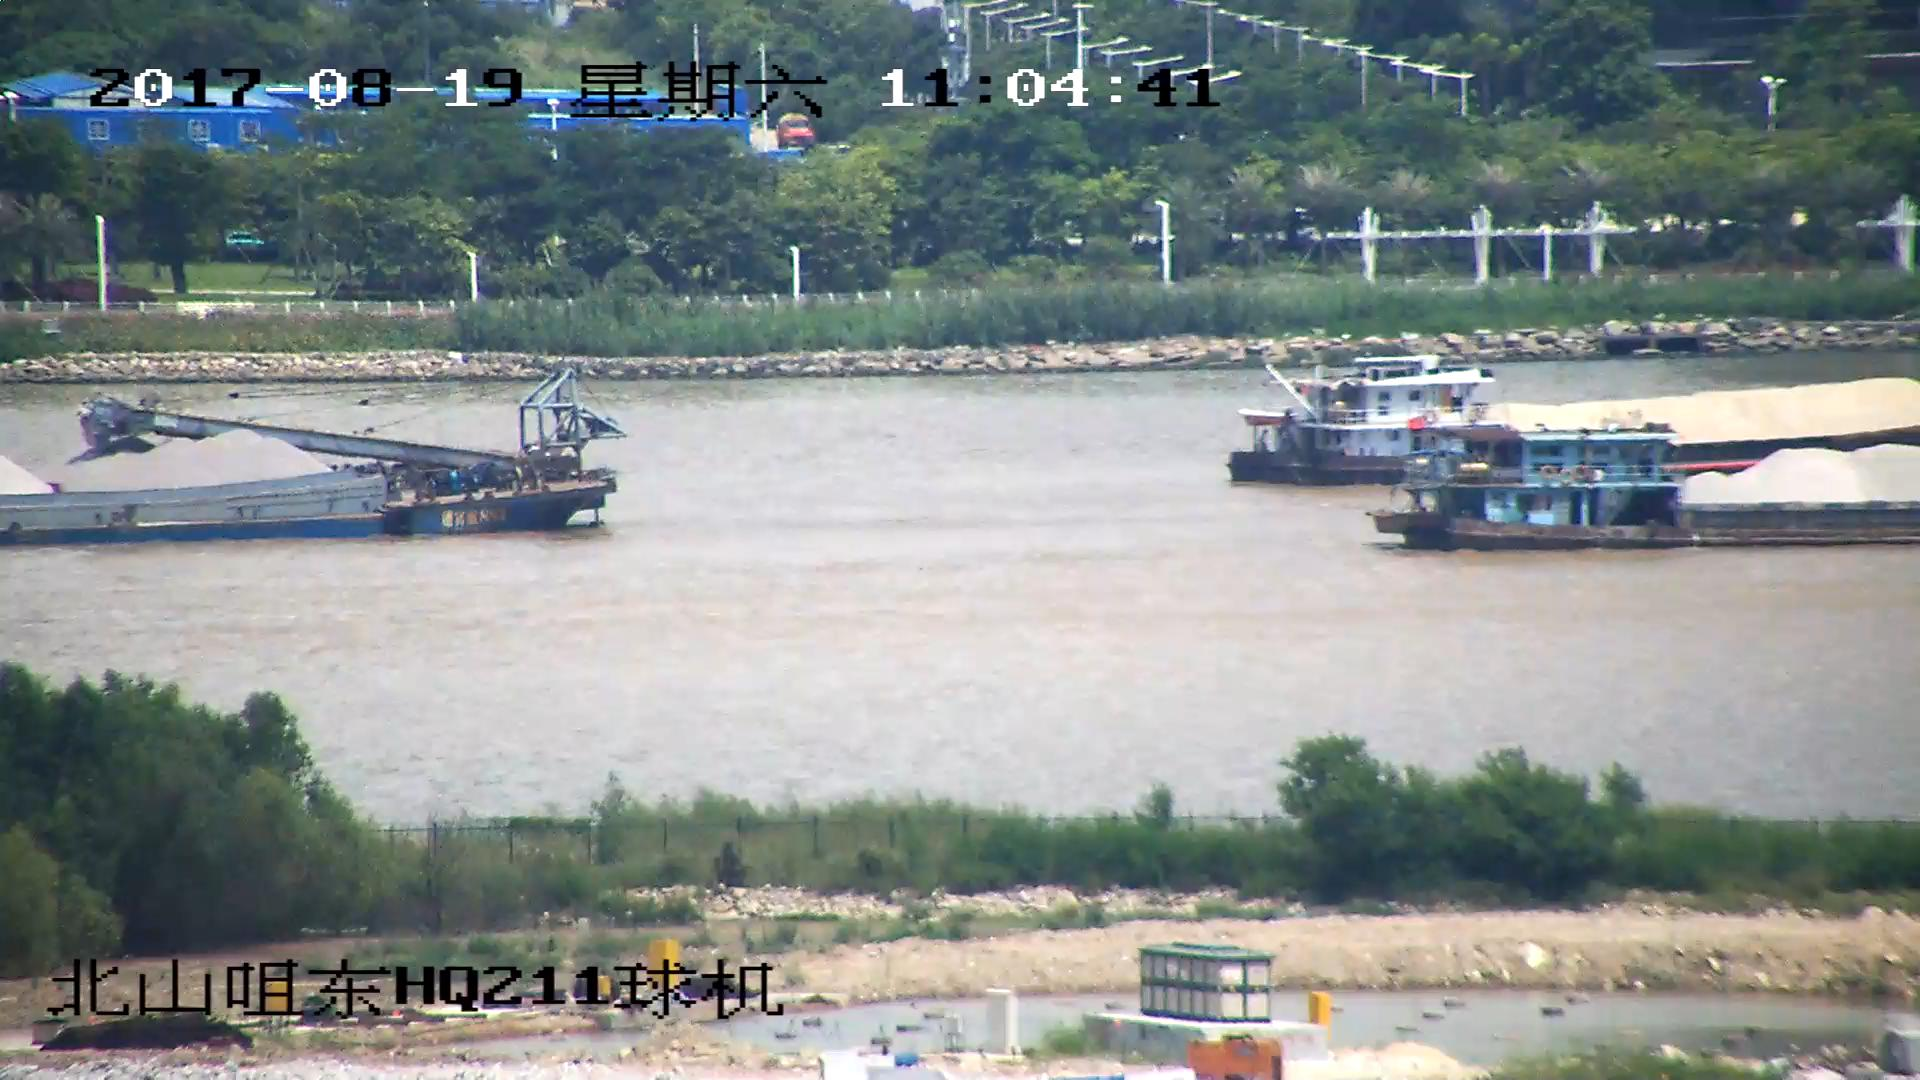ore carrier: (1, 365, 635, 547), (1225, 372, 1920, 484), (1390, 430, 1920, 545)
